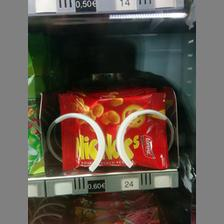Nuss: (56, 91, 168, 169)
